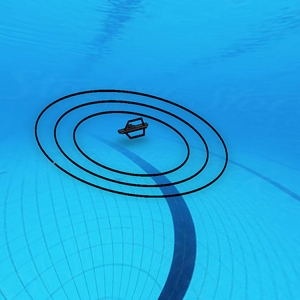circle: (23, 79, 241, 216)
submarine: (118, 117, 148, 139)
